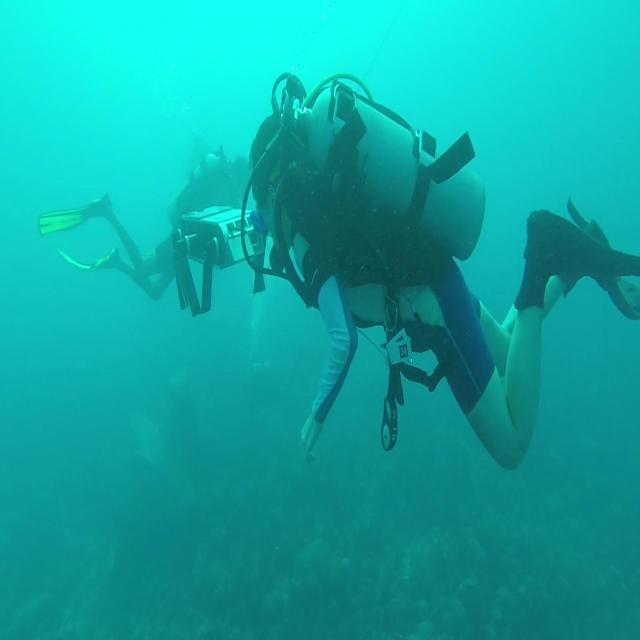human: (247, 70, 638, 470), (37, 143, 257, 306)
